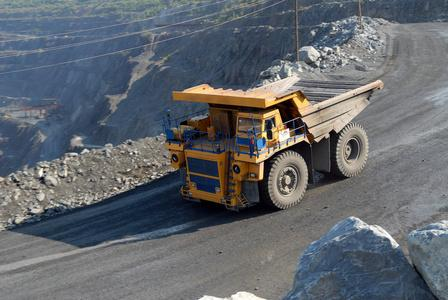卡车: (157, 60, 400, 222)
